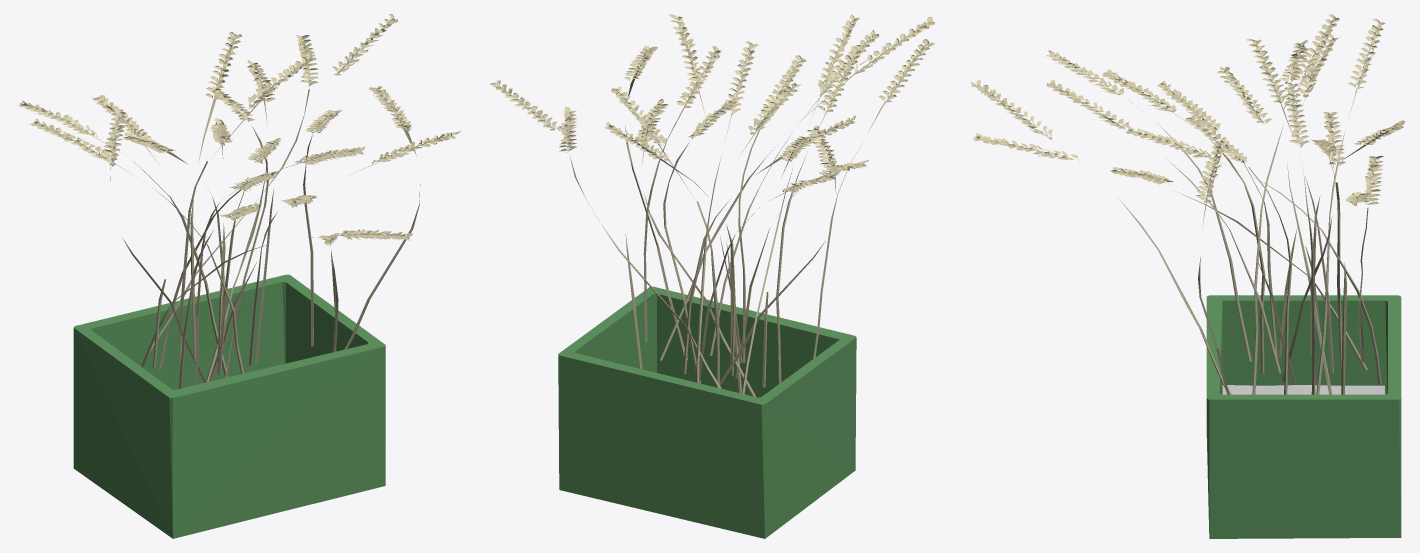
Rendered from sh-scopia-vase5.glb.
3 views of the same model, side by side, from view 1: azimuth 30°, elevation 25°; view 2: azimuth 150°, elevation 25°; view 3: azimuth 270°, elevation 25° (orthographic). The views are drawn at different scales.
Visible parts, largest first — view 1: jarronCristal_Cube.1276, espigas_leaves.001_trunk, espigas_leaves.001_leaves, espigas_leaves.001_stems_1; view 2: jarronCristal_Cube.1276, espigas_leaves.001_trunk, espigas_leaves.001_leaves, espigas_leaves.001_stems_1; view 3: jarronCristal_Cube.1276, espigas_leaves.001_leaves, espigas_leaves.001_trunk, espigas_leaves.001_stems_1, piedras_jarron_Cube.1277.
Boxes of the visible parts, bbox=[...] form: jarronCristal_Cube.1276: bbox=[73, 274, 385, 538]; espigas_leaves.001_trunk: bbox=[40, 22, 448, 388]; espigas_leaves.001_leaves: bbox=[19, 14, 461, 243]; espigas_leaves.001_stems_1: bbox=[15, 25, 448, 245]; jarronCristal_Cube.1276: bbox=[558, 286, 856, 538]; espigas_leaves.001_trunk: bbox=[498, 21, 924, 396]; espigas_leaves.001_leaves: bbox=[490, 14, 934, 192]; espigas_leaves.001_stems_1: bbox=[502, 16, 936, 191]; jarronCristal_Cube.1276: bbox=[1206, 295, 1401, 538]; espigas_leaves.001_leaves: bbox=[970, 14, 1404, 205]; espigas_leaves.001_trunk: bbox=[1117, 27, 1395, 394]; espigas_leaves.001_stems_1: bbox=[971, 20, 1380, 204]; piedras_jarron_Cube.1277: bbox=[1222, 385, 1384, 394].
Bounding box in the file's own units: 0.9967 × 0.9972 × 0.9997.
